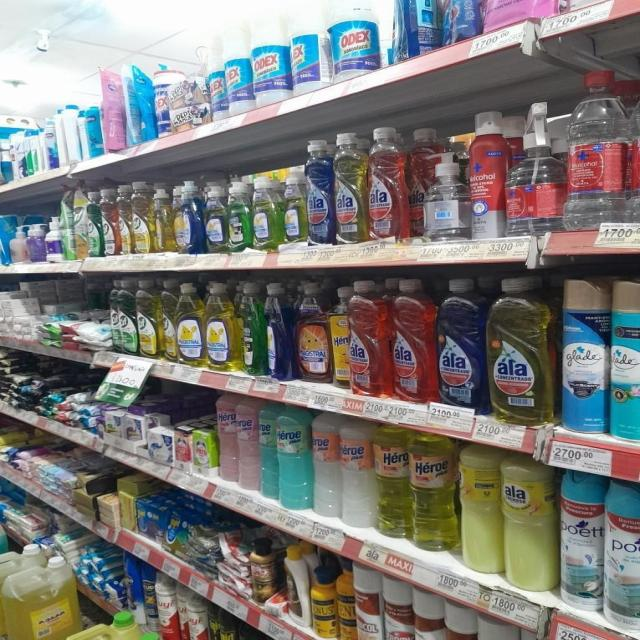ala_conc_amarillo: (488, 276, 553, 424), (334, 132, 366, 244)
ala_conc_azul: (437, 276, 486, 412), (304, 138, 334, 246)
ala_conc_rojo: (391, 277, 436, 404), (348, 278, 389, 398), (368, 126, 408, 243)
ala_crem_amarillo: (502, 451, 556, 592), (459, 443, 501, 576)
cif_conc_bot_amarilla: (137, 278, 159, 359), (132, 181, 152, 254), (153, 182, 173, 254), (160, 279, 176, 363), (102, 187, 116, 256), (118, 185, 131, 255)
cif_conc_botella_verde: (111, 278, 136, 354)
heroe: (411, 428, 457, 554), (376, 422, 410, 542), (340, 416, 374, 530), (278, 403, 312, 511), (313, 409, 340, 521), (238, 394, 258, 493), (259, 400, 278, 502), (218, 391, 238, 485)
magistral_con_amarillo: (206, 281, 238, 372), (176, 280, 205, 366), (252, 174, 282, 252), (283, 167, 305, 246), (204, 182, 228, 254)
magistral_con_azul: (174, 180, 203, 254)
magistral_con_rojo: (294, 280, 332, 384)
